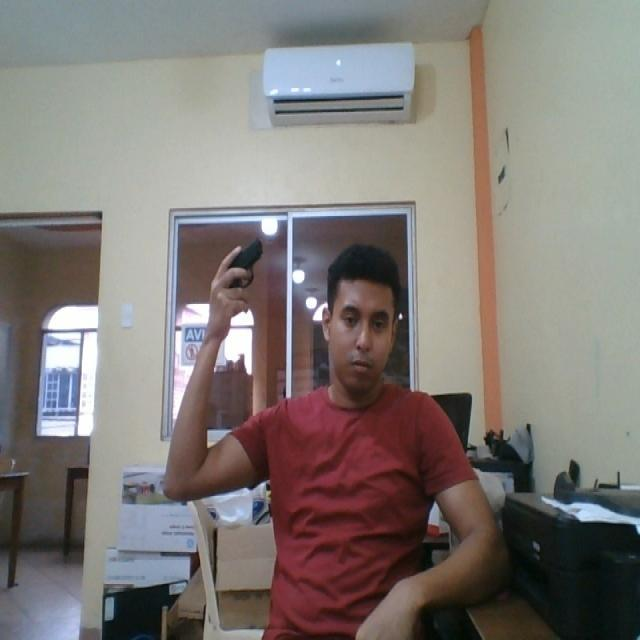weapon: (226, 236, 264, 290)
